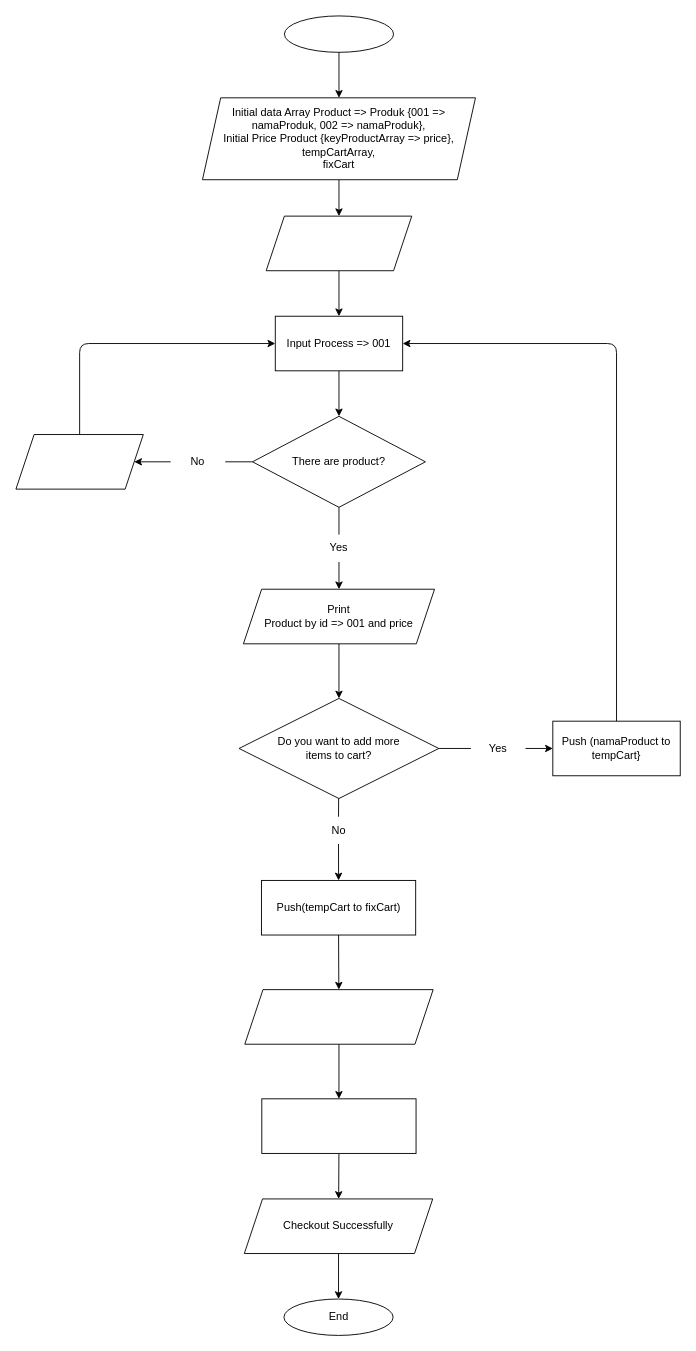
This 696x1351 diagram has some shape labels left out. Each missing label, with the centre of its shape:
Change product by id: point 338,243
Checkout Process: point 338,1125
Data successfully added to cart: point 338,1016
Print "Product not found": point 79,461
Start: point 338,33
